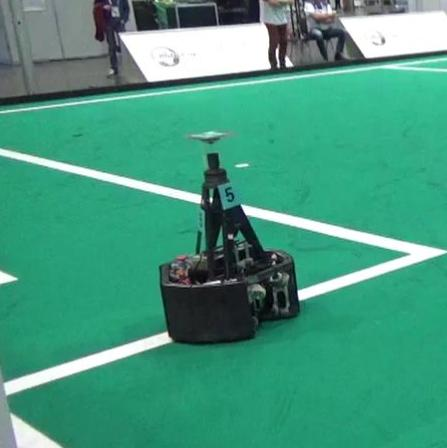robot: (156, 126, 302, 344)
